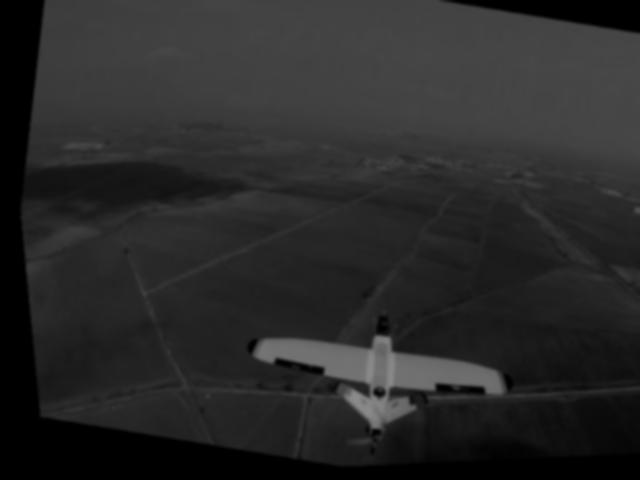hedef: (205, 265, 539, 474)
